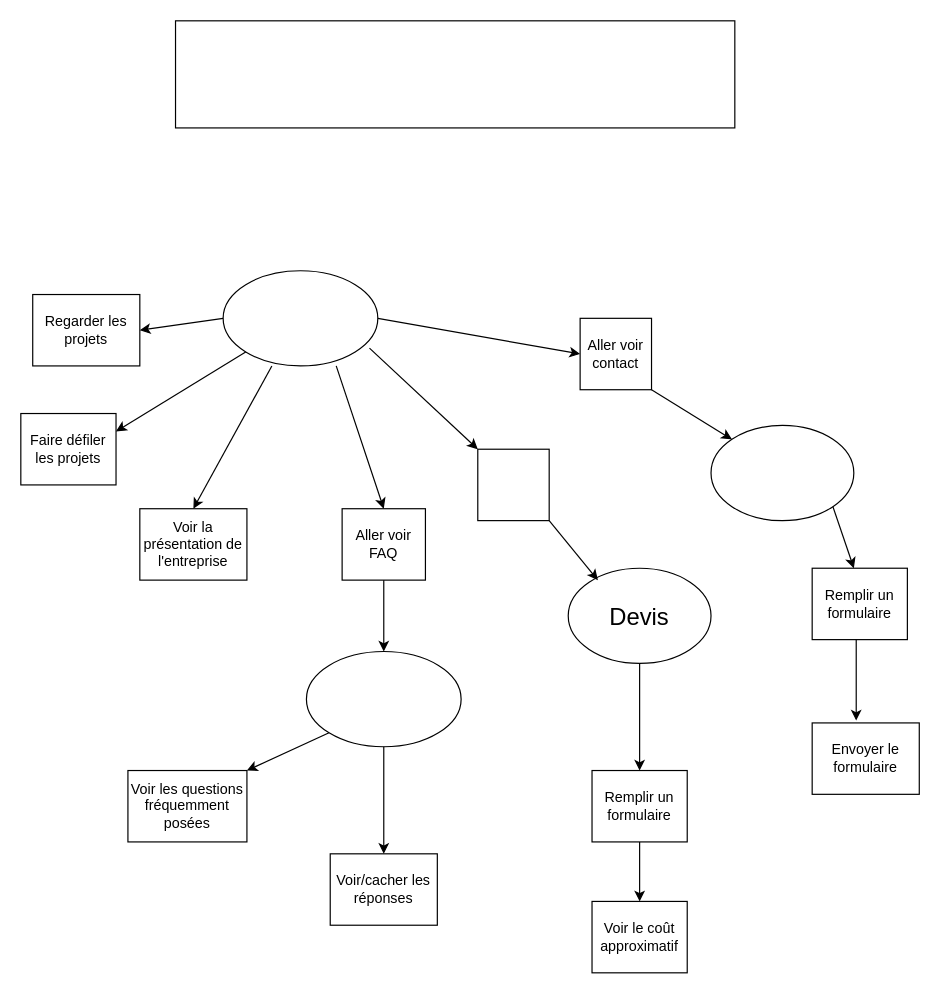
The diagram is 940 pixels wide and 994 high, and some of its shapes have lost their labels. Here are the shapes that lost their labels. From the top down, the box of each, then its label:
(174, 20, 735, 128): Arborescence fonctionnelle NorImmo website
(222, 270, 378, 366): Homepage
(477, 448, 549, 521): Aller voir devis
(710, 424, 854, 521): Contact
(305, 650, 461, 747): FAQ
